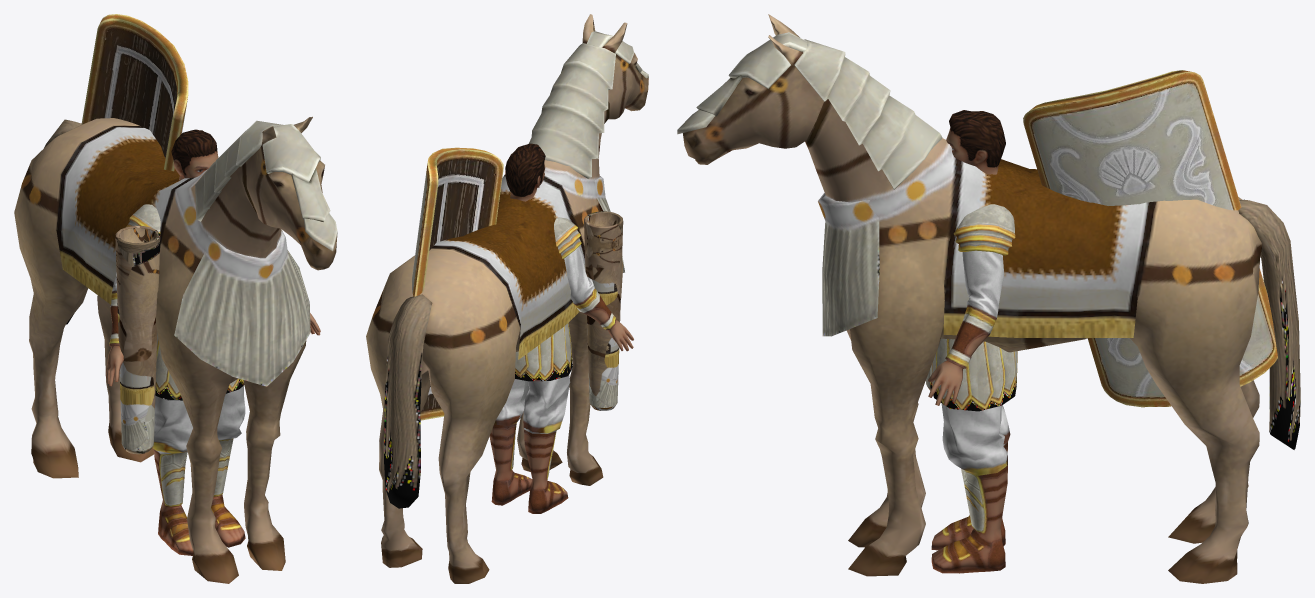
The model's file is 88-turmahero.glb.
The picture shows the model from 3 angles, left to right: view 1: azimuth 30°, elevation 25°; view 2: azimuth 150°, elevation 25°; view 3: azimuth 270°, elevation 25°; orthographic projection. The views are drawn at different scales.
Bounding box in the file's own units: 1.15 × 2.51 × 2.67.
Materials: 3 (3 with a texture image).
